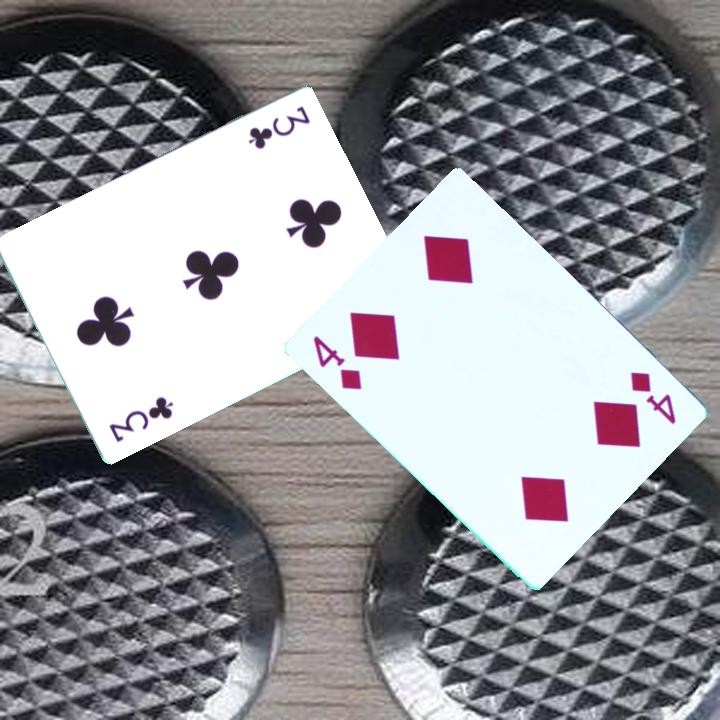3c: (105, 393, 176, 446), (244, 103, 314, 153)
4d: (308, 331, 365, 393), (626, 368, 679, 428)
